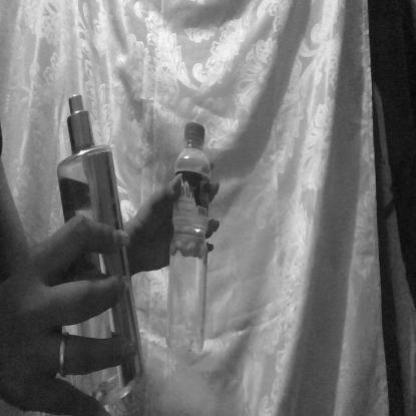Plastic Bottle: (164, 94, 229, 386)
